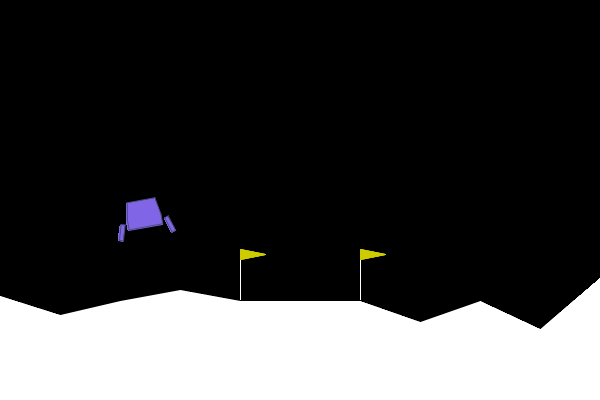lander: (111, 193, 177, 243)
